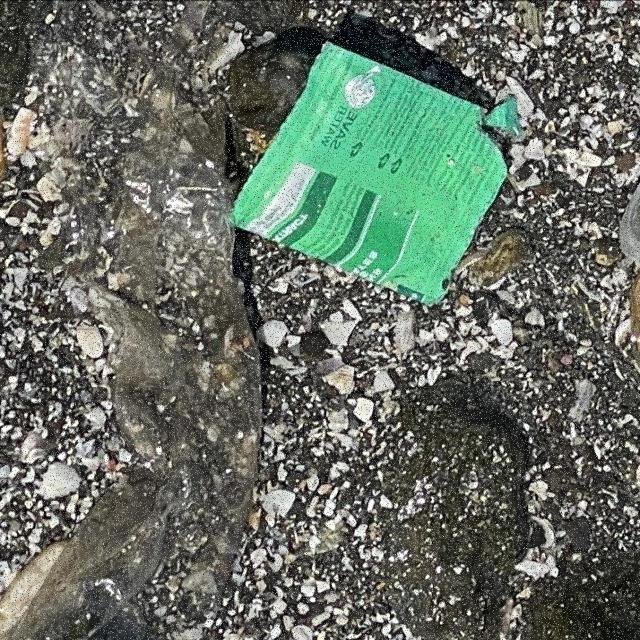plastic_waste: (233, 41, 515, 307)
